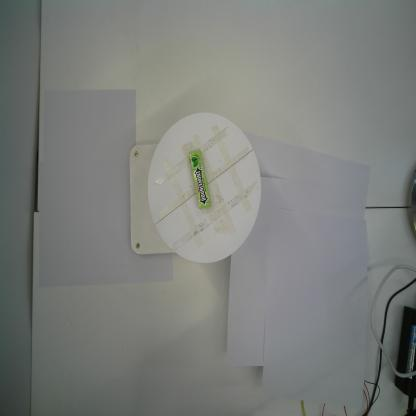Gum: (189, 149, 211, 210)
